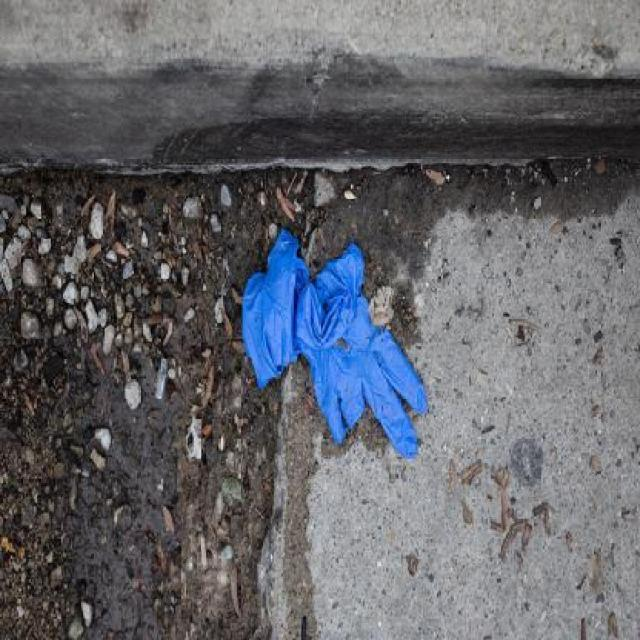gloved_hand: (240, 224, 426, 456)
